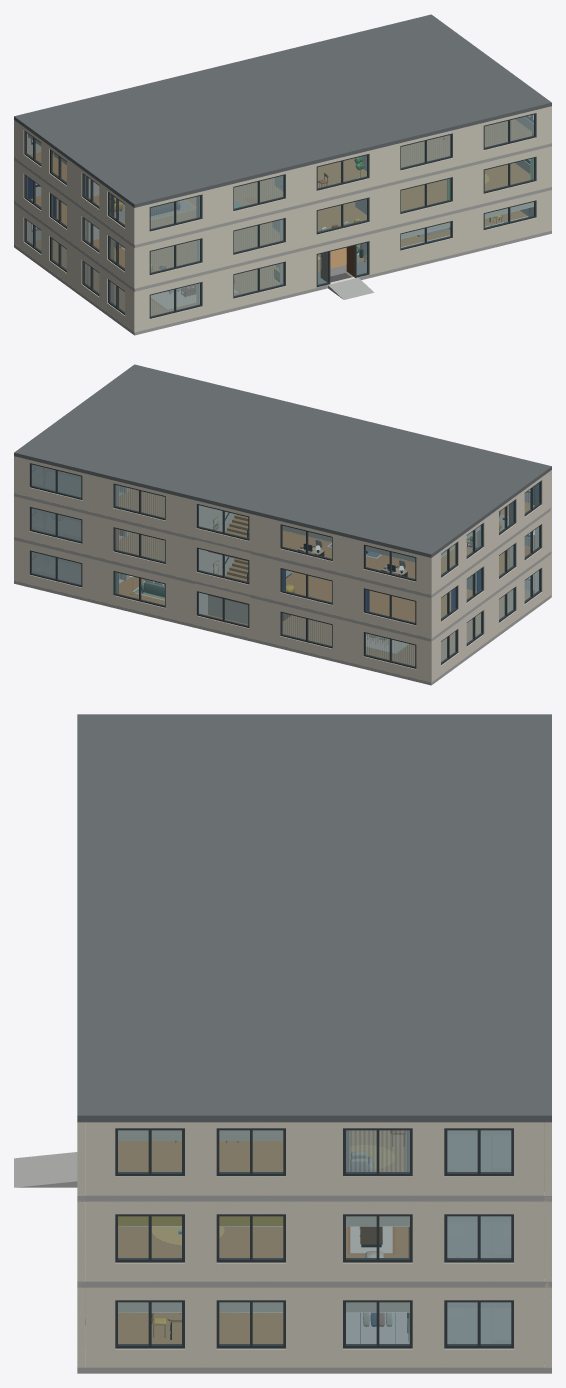
File: townhouse_30x15_3floors_v2.glb
3 views of the same model, one above another, from view 1: azimuth 30°, elevation 25°; view 2: azimuth 150°, elevation 25°; view 3: azimuth 270°, elevation 25° (orthographic). The views are drawn at different scales.
Parts seen in each view (by area): view 1: Flat roof slab, Upper oak floor, Upper oak floor.004, Upper oak floor.001, Ground oak floor, Upper oak floor.003, Front L1 pier 3, Front L2 pier 3, Front L1 pier 1, Front L2 pier 1, Front L1 pier 2, Front L2 pier 2 (+64 smaller); view 2: Flat roof slab, Upper oak floor, Ground oak floor, Upper oak floor.003, Rear L2 pier 3, Rear L1 pier 3, Rear L1 pier 1, Rear L2 pier 1, Rear L1 pier 2, Rear L2 pier 2, Rear L1 pier 4, Rear L2 pier 4 (+65 smaller); view 3: Flat roof slab, Upper oak floor.004, Right L1 pier 2, Right L2 pier 2, Right L3 pier 2, Upper oak floor.001, Ground oak floor.001, Floor slab 3.001, Floor slab 1.001, Floor slab 2.001, Right L1 pier 3, Right L2 pier 3 (+52 smaller).
Part boxes in pixels (x1,y1,x2,y2): Flat roof slab: (14,14,551,207); Upper oak floor: (31,196,279,270); Upper oak floor.004: (337,119,531,177); Upper oak floor.001: (337,163,530,221); Ground oak floor: (30,240,279,315); Upper oak floor.003: (30,152,282,228); Front L1 pier 3: (369,227,400,274); Front L2 pier 3: (369,183,400,231); Front L1 pier 1: (202,268,233,315); Front L2 pier 1: (202,224,233,271); Front L1 pier 2: (285,247,316,295); Front L2 pier 2: (285,204,316,251); Flat roof slab: (14,364,551,557); Upper oak floor: (286,546,534,622); Ground oak floor: (283,590,529,665); Upper oak floor.003: (282,502,534,578); Rear L2 pier 3: (165,533,196,584); Rear L1 pier 3: (165,577,196,624); Rear L1 pier 1: (332,618,363,665); Rear L2 pier 1: (332,574,363,621); Rear L1 pier 2: (249,597,280,645); Rear L2 pier 2: (249,554,280,601); Rear L1 pier 4: (82,556,113,604); Rear L2 pier 4: (82,513,113,560); Flat roof slab: (77,714,551,1122); Upper oak floor.004: (118,1130,405,1171); Right L1 pier 2: (286,1287,342,1367); Right L2 pier 2: (286,1201,342,1281); Right L3 pier 2: (286,1122,342,1195); Upper oak floor.001: (118,1226,408,1257); Ground oak floor.001: (118,1312,283,1343); Floor slab 3.001: (77,1196,551,1201); Floor slab 1.001: (77,1368,551,1373); Floor slab 2.001: (77,1282,551,1287); Right L1 pier 3: (412,1287,444,1367); Right L2 pier 3: (412,1201,444,1281).
Bounding box in the file's own units: 30 × 9 × 17.
